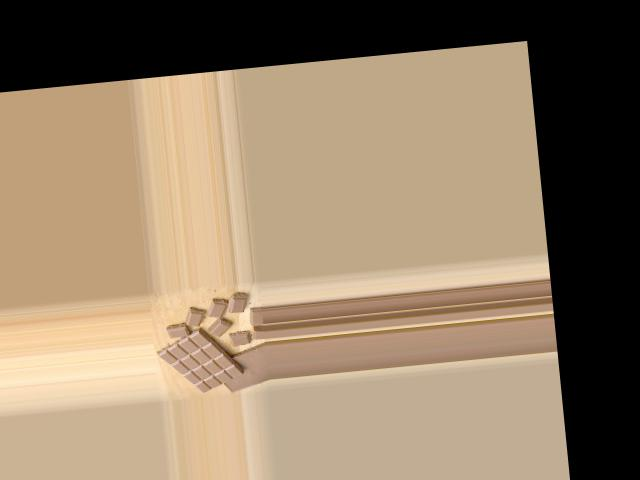chocolate: (157, 321, 245, 396)
